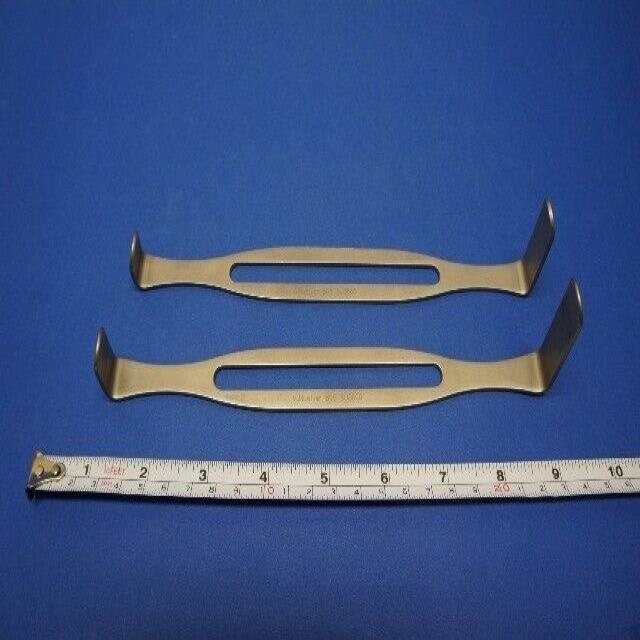Army Navy Retractor: (94, 305, 596, 418), (126, 194, 562, 308)
